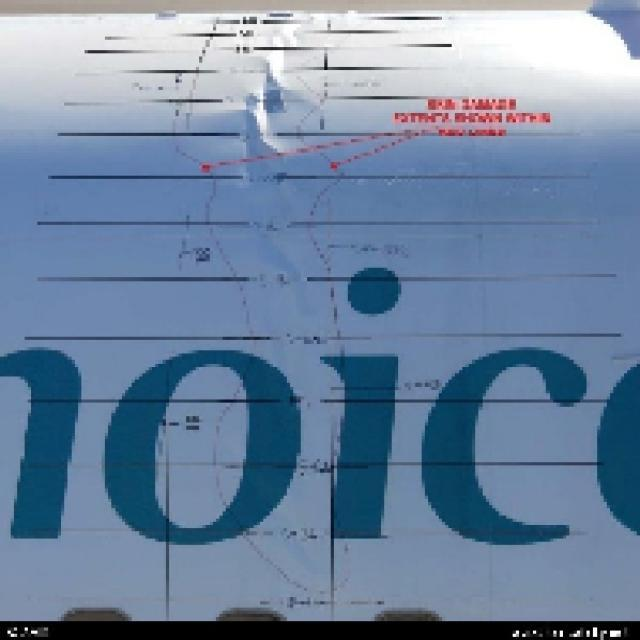dent: (205, 109, 287, 192), (259, 14, 333, 105), (254, 228, 309, 300)
